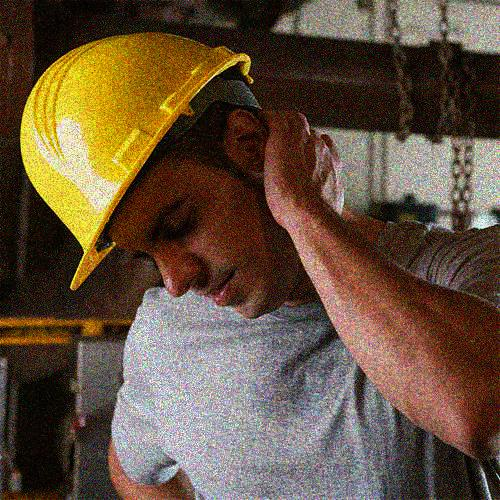helmet: (18, 29, 314, 319)
